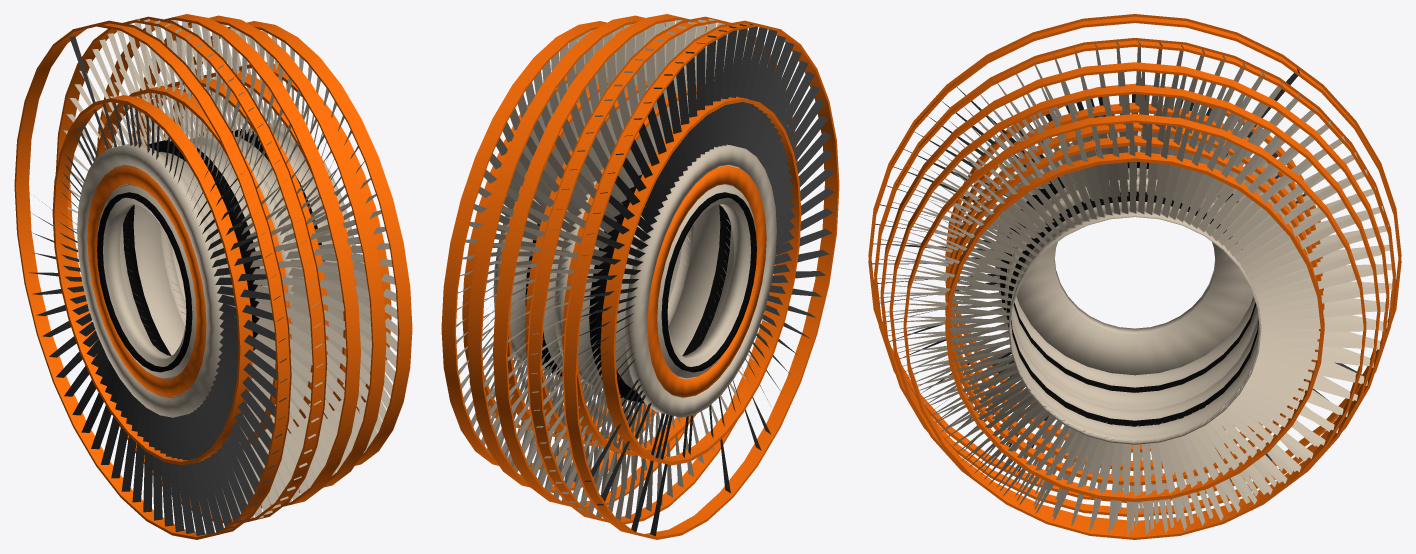
Rendered from 5_tail_exhaust_turbine.FBX.
The picture shows the model from 3 angles, left to right: view 1: azimuth 30°, elevation 25°; view 2: azimuth 150°, elevation 25°; view 3: azimuth 270°, elevation 25°; orthographic projection.
Parts seen in each view (by area): view 1: tail_exhaust_turbine_hoop, tail_exhaust_turbine_blades, 5_tail_exhaust_turbine; view 2: tail_exhaust_turbine_hoop, tail_exhaust_turbine_blades, 5_tail_exhaust_turbine; view 3: tail_exhaust_turbine_blades, tail_exhaust_turbine_hoop, 5_tail_exhaust_turbine.
Part boxes in pixels (x1=…): tail_exhaust_turbine_hoop: x1=14, y1=14, x2=412, y2=539; tail_exhaust_turbine_blades: x1=28, y1=19, x2=397, y2=535; 5_tail_exhaust_turbine: x1=77, y1=123, x2=356, y2=417; tail_exhaust_turbine_hoop: x1=441, y1=14, x2=839, y2=539; tail_exhaust_turbine_blades: x1=456, y1=19, x2=834, y2=536; 5_tail_exhaust_turbine: x1=493, y1=144, x2=776, y2=417; tail_exhaust_turbine_blades: x1=872, y1=41, x2=1392, y2=534; tail_exhaust_turbine_hoop: x1=868, y1=14, x2=1401, y2=539; 5_tail_exhaust_turbine: x1=995, y1=131, x2=1261, y2=444.
Size of the model in its own units: 0.4365 by 1.29 by 1.29.
